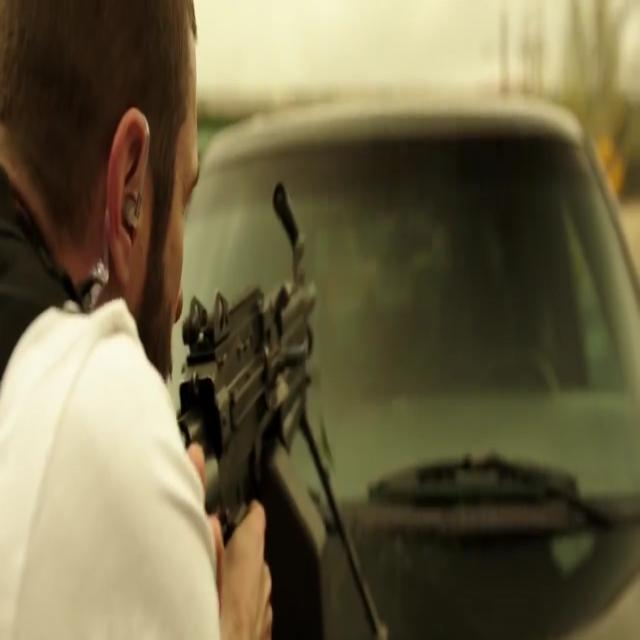Weapon: (162, 183, 344, 583)
